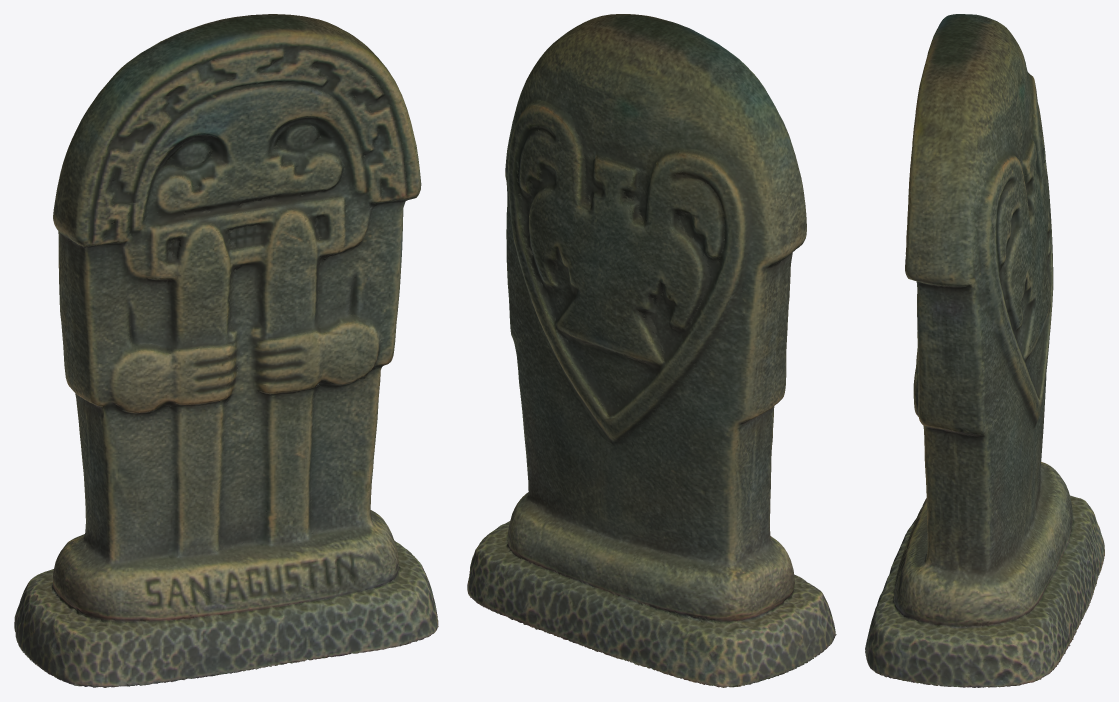
Rendered from san_agustin_souvenir_miniatura.glb.
The picture shows the model from 3 angles, left to right: view 1: azimuth 30°, elevation 25°; view 2: azimuth 150°, elevation 25°; view 3: azimuth 270°, elevation 25°; orthographic projection. The views are drawn at different scales.
Visible parts, largest first — view 1: Object_2, Object_3; view 2: Object_2, Object_3; view 3: Object_2, Object_3.
Boxes of the visible parts, left/top/right/bottom form: Object_2: left=14, top=14, right=438, bottom=687; Object_3: left=22, top=17, right=431, bottom=686; Object_2: left=467, top=14, right=835, bottom=687; Object_3: left=470, top=22, right=836, bottom=682; Object_2: left=865, top=14, right=1104, bottom=687; Object_3: left=868, top=22, right=1091, bottom=671.
Size of the model in its own units: 19.76 by 33.12 by 12.06.
2 materials, 1 textured.
